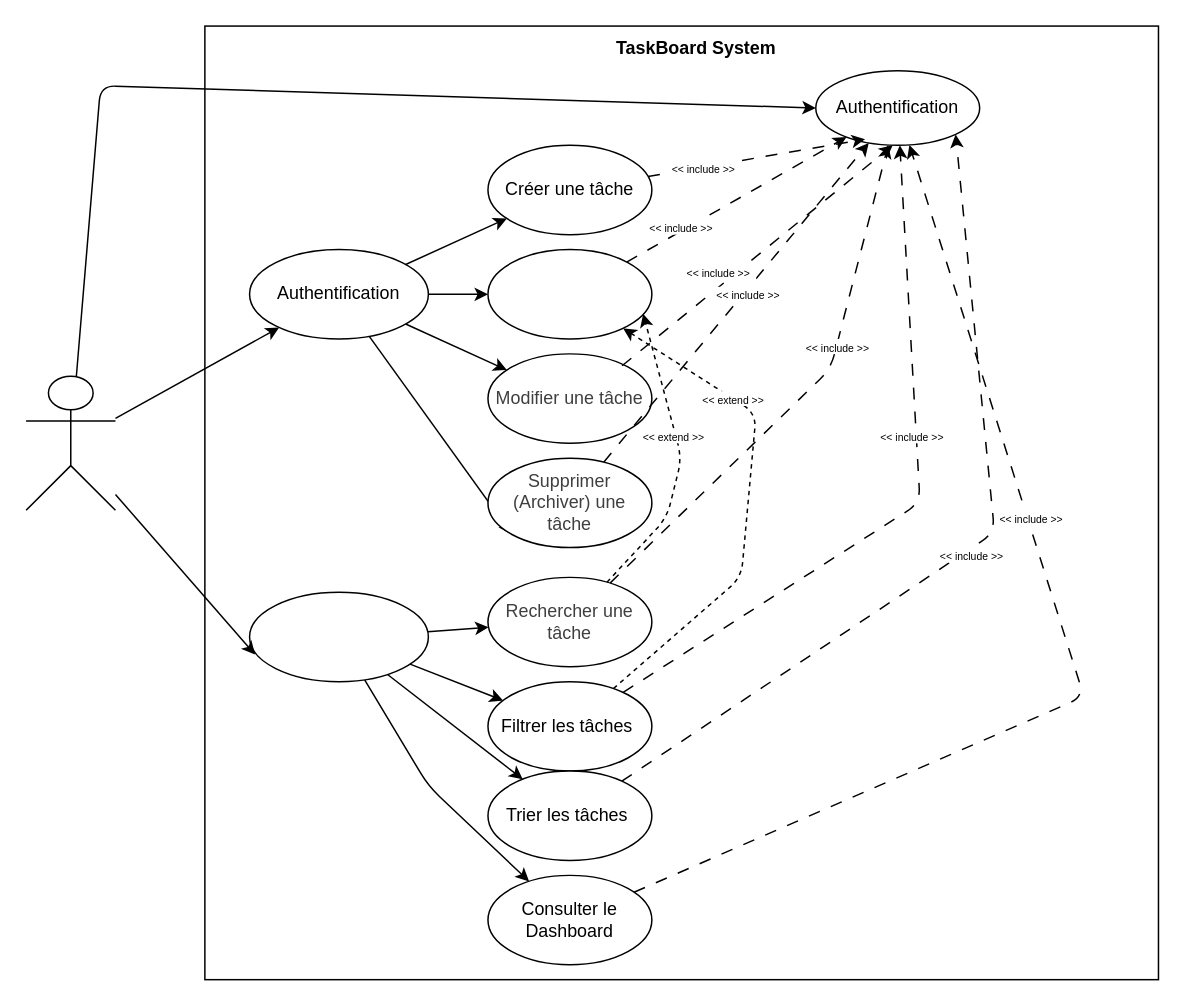
This 1185x1006 diagram has some shape labels left out. Here are the shapes that lost their labels. From the top down, the centre of each, then its label:
the point at 569,293: Consulter la liste des tâches
the point at 70,442: Utilisation
the point at 338,636: Recherche & Stats)
